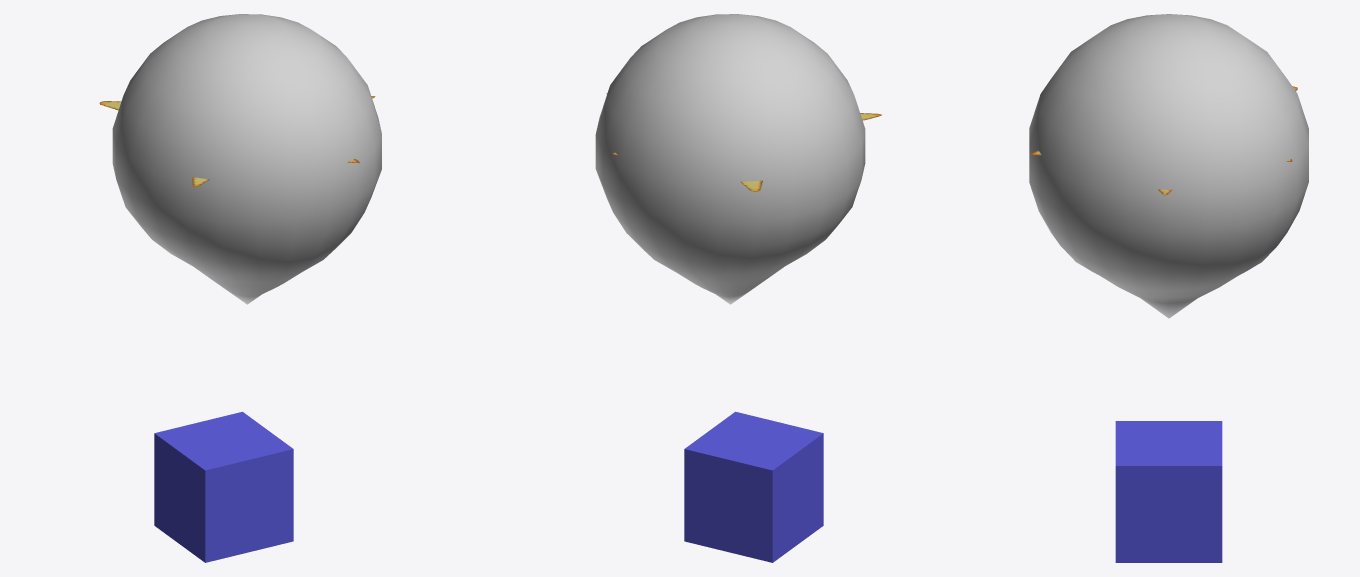
The picture shows the model from 3 angles, left to right: view 1: azimuth 30°, elevation 25°; view 2: azimuth 150°, elevation 25°; view 3: azimuth 270°, elevation 25°; orthographic projection. The views are drawn at different scales.
Visible parts, largest first — view 1: object0005_M1271, object0025_Box; view 2: object0005_M1271, object0025_Box; view 3: object0005_M1271, object0025_Box.
Part boxes in pixels (box(x1,y1,x2,y2)): object0005_M1271: box(112, 14, 381, 304); object0025_Box: box(154, 411, 293, 562); object0005_M1271: box(595, 14, 865, 304); object0025_Box: box(684, 411, 823, 562); object0005_M1271: box(1029, 14, 1308, 318); object0025_Box: box(1115, 421, 1222, 562).
Bounding box in the file's own units: 0.5213 × 0.8577 × 0.5213.
